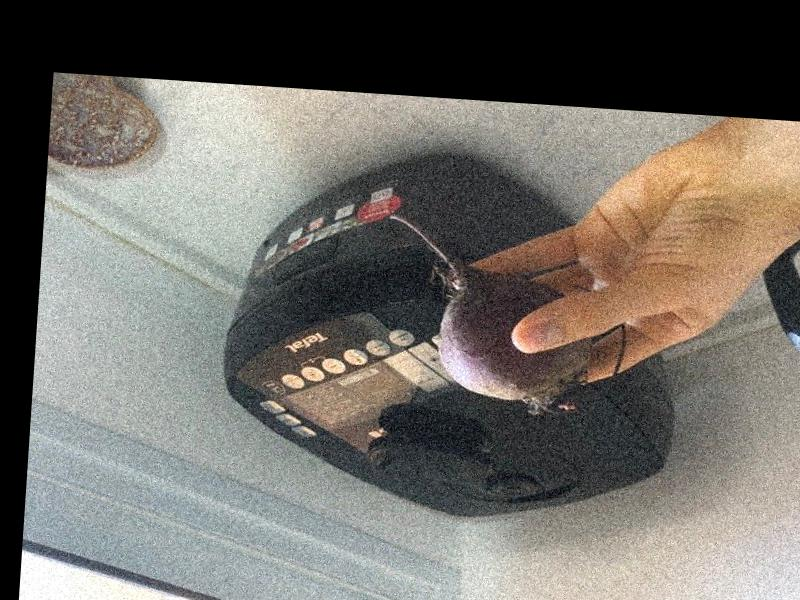Beet: (378, 211, 630, 420)
